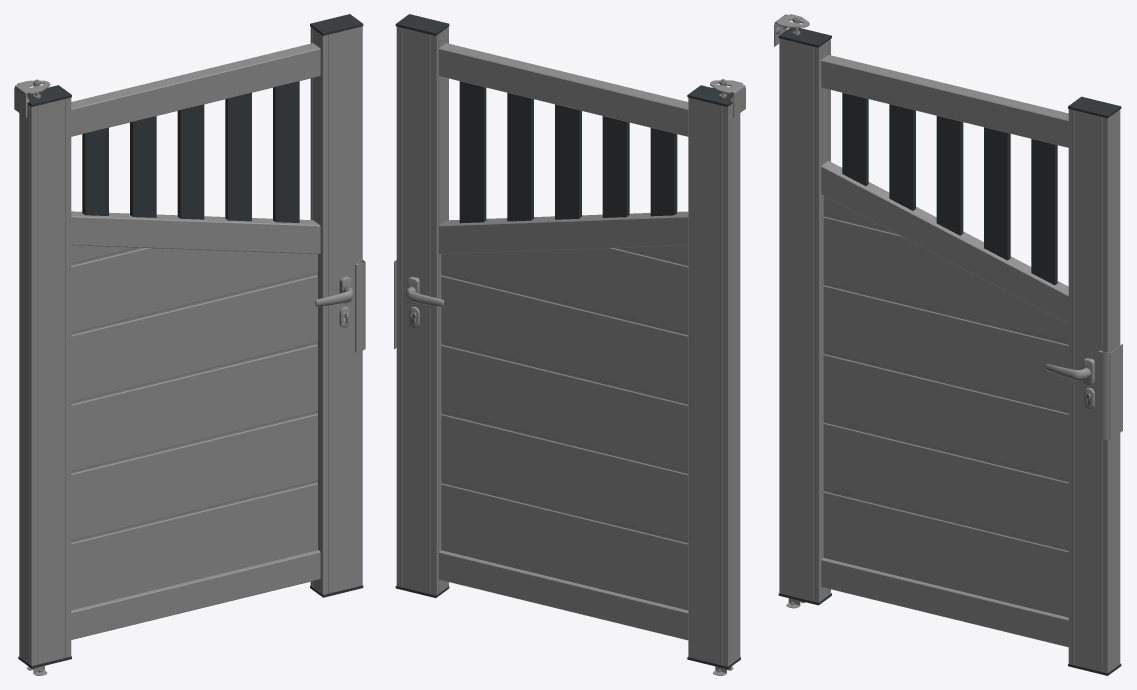
The picture shows the model from 3 angles, left to right: view 1: azimuth 30°, elevation 25°; view 2: azimuth 150°, elevation 25°; view 3: azimuth 330°, elevation 25°; orthographic projection.
Parts seen in each view (by area): view 1: Shape107412643, Shape107412644, Shape107412658, Shape107412659, Shape107412660, Shape202, Plane003, Shape107412662, Shape107411737, Shape107411736, Shape107411739, Shape107412637 (+3 smaller); view 2: Shape107412643, Shape107412644, Shape107412658, Shape107412659, Shape107412660, Shape202, Plane003, Shape107412662, Shape107411737, Shape107411736, Shape107411739, Box2403 (+2 smaller); view 3: Shape107412644, Shape107412643, Shape107412659, Shape107412658, Shape202, Shape107412660, Plane003, Shape107412662, Shape107411737, Shape107411736, Shape107411739, Shape107412637 (+2 smaller).
Boxes of the visible parts, x1,y1,x2,y2 form: Shape107412643: (19,97,71,665); Shape107412644: (310,26,362,594); Shape107412658: (71,411,317,540); Shape107412659: (71,342,317,471); Shape107412660: (71,273,317,402); Shape202: (71,481,317,609); Plane003: (82,81,299,222); Shape107412662: (71,245,317,332); Shape107411737: (71,43,320,136); Shape107411736: (71,211,320,254); Shape107411739: (71,550,320,639); Shape107412637: (355,260,365,352); Shape107412643: (688,97,740,666); Shape107412644: (396,26,448,595); Shape107412658: (441,412,688,540); Shape107412659: (441,342,688,471); Shape107412660: (441,273,688,402); Shape202: (441,481,688,610); Plane003: (459,81,677,223); Shape107412662: (441,245,688,333); Shape107411737: (438,43,688,136); Shape107411736: (438,211,688,254); Shape107411739: (438,550,688,640); Box2403: (395,14,449,35); Shape107412644: (1068,109,1120,672); Shape107412643: (779,38,830,602); Shape107412659: (823,352,1068,480); Shape107412658: (823,420,1068,548); Shape202: (823,489,1068,617); Shape107412660: (823,283,1068,411); Plane003: (842,92,1057,285); Shape107412662: (823,196,1068,342); Shape107411737: (821,55,1068,147); Shape107411736: (821,160,1068,323); Shape107411739: (821,558,1068,647); Shape107412637: (1098,344,1122,439).
Size of the model in its own units: 1014 by 1688 by 171.
Materials: 8 (4 with a texture image).
